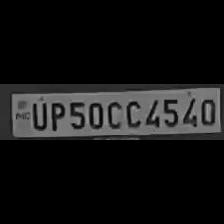0: (198, 96, 216, 126), (86, 100, 104, 128)
4: (142, 96, 160, 128), (180, 96, 196, 127)
5: (159, 96, 179, 127), (66, 99, 86, 129)
C: (123, 97, 141, 128), (104, 98, 122, 128)
P: (48, 99, 64, 131)
U: (28, 99, 46, 130)
